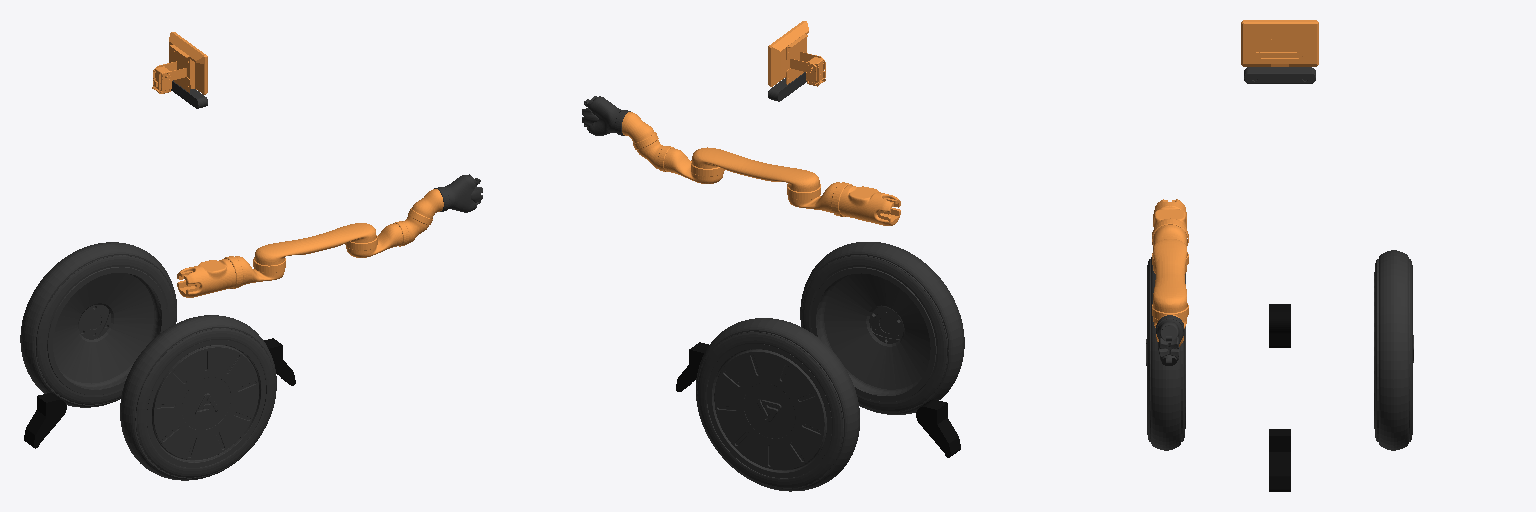
--- Facts derived from the render (not from the file) ---
Views: 3 orthographic renders of the robot side by side, from view 1: azimuth 30°, elevation 25°; view 2: azimuth 150°, elevation 25°; view 3: azimuth 270°, elevation 25°.
Model segway_robot with 39 links and 38 joints (4 revolute, 5 continuous, 29 fixed), rooted at base_link, posed all joints at 0 but 2 set to mid-range because 0 is outside their limits (m1n6s200_joint_2 = 3.14, m1n6s200_joint_3 = 3.14).
Visible links, largest first — view 1: right_wheel_link, left_wheel_link, m1n6s200_link_2, tilt_link, m1n6s200_link_base, rear_caster_pivot_link, m1n6s200_link_6, m1n6s200_link_3, m1n6s200_link_1, m1n6s200_link_5, front_caster_pivot_link; view 2: left_wheel_link, right_wheel_link, m1n6s200_link_2, tilt_link, m1n6s200_link_base, rear_caster_pivot_link, m1n6s200_link_6, m1n6s200_link_3, m1n6s200_link_1, m1n6s200_link_5, front_caster_pivot_link, m1n6s200_link_4; view 3: left_wheel_link, right_wheel_link, tilt_link, m1n6s200_link_2, front_caster_pivot_link, camera_link, m1n6s200_link_6, rear_caster_pivot_link, m1n6s200_link_base, m1n6s200_link_1.
Link boxes in pixels (x1,y1,x2,y2): right_wheel_link: (120,315,276,480); left_wheel_link: (20,242,176,407); m1n6s200_link_2: (253,223,375,272); tilt_link: (159,32,207,94); m1n6s200_link_base: (177,259,235,297); rear_caster_pivot_link: (24,393,66,448); m1n6s200_link_6: (434,174,482,212); m1n6s200_link_3: (345,223,402,257); m1n6s200_link_1: (224,256,284,288); m1n6s200_link_5: (408,189,443,224); front_caster_pivot_link: (264,338,295,385); left_wheel_link: (696,318,859,491); right_wheel_link: (800,242,964,414); m1n6s200_link_2: (692,147,820,199); tilt_link: (768,21,820,86); m1n6s200_link_base: (839,185,900,225); rear_caster_pivot_link: (916,400,960,457); m1n6s200_link_6: (582,96,630,135); m1n6s200_link_3: (664,148,724,183); m1n6s200_link_1: (788,182,852,216); m1n6s200_link_5: (622,112,658,149); front_caster_pivot_link: (676,342,708,391); m1n6s200_link_4: (637,140,673,171); left_wheel_link: (1374,250,1413,450); right_wheel_link: (1146,257,1185,450); tilt_link: (1241,20,1318,66); m1n6s200_link_2: (1152,239,1188,312); front_caster_pivot_link: (1269,429,1290,491); camera_link: (1244,67,1315,83); m1n6s200_link_6: (1156,315,1183,365); rear_caster_pivot_link: (1269,304,1290,347); m1n6s200_link_base: (1153,199,1186,228); m1n6s200_link_1: (1152,220,1188,273).
Bounding box of the posed robot: 1.31 × 0.6435 × 1.17 m (x, y, z).
20 mesh visuals loaded from 18 distinct referenced files (2 binary STL, 12 OBJ); not drawn: 6 (reference not matched to a file when rendering).

URDF robot description (segway_robot):
<?xml version="1.0" ?>
<!-- =================================================================================== -->
<!-- |    This document was autogenerated by xacro from rmp.urdf.xacro                 | -->
<!-- |    EDITING THIS FILE BY HAND IS NOT RECOMMENDED                                 | -->
<!-- =================================================================================== -->
<!--
Software License Agreement (BSD)

\file      segway.urdf.xacro
\authors   Patrick Hussey
\copyright Copyright (c) 2018, Stanley Innovation, Inc., All rights reserved.

Redistribution and use in source and binary forms, with or without modification, are permitted provided that
the following conditions are met:
 * Redistributions of source code must retain the above copyright notice, this list of conditions and the
   following disclaimer.
 * Redistributions in binary form must reproduce the above copyright notice, this list of conditions and the
   following disclaimer in the documentation and/or other materials provided with the distribution.
 * Neither the name of Stanley Innovation, Inc. nor the names of its contributors may be used to endorse or promote
   products derived from this software without specific prior written permission.

THIS SOFTWARE IS PROVIDED BY THE COPYRIGHT HOLDERS AND CONTRIBUTORS "AS IS" AND ANY EXPRESS OR IMPLIED WAR-
RANTIES, INCLUDING, BUT NOT LIMITED TO, THE IMPLIED WARRANTIES OF MERCHANTABILITY AND FITNESS FOR A PARTICULAR
PURPOSE ARE DISCLAIMED. IN NO EVENT SHALL THE COPYRIGHT HOLDER OR CONTRIBUTORS BE LIABLE FOR ANY DIRECT, IN-
DIRECT, INCIDENTAL, SPECIAL, EXEMPLARY, OR CONSEQUENTIAL DAMAGES (INCLUDING, BUT NOT LIMITED TO, PROCUREMENT
OF SUBSTITUTE GOODS OR SERVICES; LOSS OF USE, DATA, OR PROFITS; OR BUSINESS INTERRUPTION) HOWEVER CAUSED AND
ON ANY THEORY OF LIABILITY, WHETHER IN CONTRACT, STRICT LIABILITY, OR TORT (INCLUDING NEGLIGENCE OR OTHERWISE)
ARISING IN ANY WAY OUT OF THE USE OF THIS SOFTWARE, EVEN IF ADVISED OF THE POSSIBILITY OF SUCH DAMAGE.
-->
<robot name="segway_robot" xmlns:xacro="http://ros.org/wiki/xacro">
  <gazebo>
    <plugin filename="libgazebo_ros_control.so" name="gazebo_ros_control">
      <robotNamespace>/</robotNamespace>
    </plugin>
    <plugin filename="libgazebo_ros_p3d.so" name="gazebo_ros_p3d">
      <bodyName>base_link</bodyName>
      <topicName>ground_truth_odom</topicName>
      <alwaysOn>true</alwaysOn>
      <updateRate>100.0</updateRate>
    </plugin>
  </gazebo>
  <!-- Base link is the center of the robot's chassis between the motors projected on the ground -->
  <link name="base_link">
  <inertial>
      <mass value="0.001"/>
      <origin rpy="0 0 0" xyz="0 0 0"/>
      <inertia ixx="0.0001" ixy="0.0" ixz="0.0" iyy="0.0001" iyz="0.0" izz="0.0001"/>
    </inertial>
  </link>
  <joint name="base_chassis_joint" type="fixed">
    <origin rpy="0 0 0" xyz="0 0 0.15801795"/>
    <parent link="base_link"/>
    <child link="base_chassis_link"/>
  </joint>
  <link name="base_chassis_link">
    <inertial>
      <mass value="101.0333036"/>
      <origin xyz="0 0 0.202000"/>
      <inertia ixx="5.38268396036" ixy="0" ixz="0" iyy="5.38268396036" iyz="0" izz="5.38268396036"/>
    </inertial>
    <collision>
      <geometry>
        <mesh filename="meshes/segway_components/collision/fixed_chassis_collision.stl" scale="1.0 0.9 1.0"/>
      </geometry>
    </collision>
    <visual>
      <origin rpy="0 0 0" xyz="0 0 0"/>
      <geometry>
        <mesh filename="meshes/segway_components/visual/processed_fixed_chassis.obj"/>
      </geometry>
      <material name="black">
        <color rgba="0.258 0.258 0.258 1" />
      </material>
</visual>
  </link>

<joint name="jr2_fixed_body_joint" type="fixed">
    <parent link="base_chassis_link"/>
    <child link="jr2_fixed_body_link"/>
    <origin rpy="0 0 0" xyz="0 0 0"/>
  </joint>
  <link name="jr2_fixed_body_link">
    <visual>
      <origin rpy="0 0 0" xyz="0 0 0"/>
      <geometry>
        <mesh filename="meshes/segway_components/visual/processed_fixed_body_highres.obj" scale="1.0 1.0 1.0"/>
      </geometry>
      <material name="">
        <color rgba="1 1 1 1" />
      </material>
    </visual>
    <collision>
      <origin rpy="0 0 0" xyz="0 0 0"/>
      <geometry>
        <mesh filename="meshes/segway_components/visual/fixed_body_vhacd.obj" scale="1.0 0.9 1.0"/>
      </geometry>
    </collision>
    <inertial>
      <mass value="0.001"/>
      <origin rpy="0 0 0" xyz="0 0 0"/>
      <inertia ixx="0.0001" ixy="0.0" ixz="0.0" iyy="0.0001" iyz="0.0" izz="0.0001"/>
    </inertial>
    
  </link>

  <joint name="left_wheel" type="continuous">
    <parent link="base_chassis_link"/>
    <child link="left_wheel_link"/>
    <origin rpy="0 0 0" xyz="0 0.27105 0.08255015"/>
    <axis rpy="0 0 0" xyz="0 1 0"/>
  </joint>
  <gazebo reference="left_wheel">
    <implicitSpringDamper>1</implicitSpringDamper>
    <stopCfm>0.1</stopCfm>
    <stopErp>0.2</stopErp>
  </gazebo>
  <link name="left_wheel_link">
    <inertial>
      <mass value="20.0"/>
      <origin rpy="0 0 0" xyz="0 0 0"/>
      <inertia ixx="0.303625" ixy="0.000000" ixz="0.000000" iyx="0.000000" iyy="0.303625" iyz="0.000000" izx="0.000000" izy="0.000000" izz="0.578884"/>
    </inertial>
    <visual>
      <origin rpy="-1.570795 0 0" xyz="0 0 0"/>
      <geometry>
        <mesh filename="meshes/segway_components/visual/processed_i2_wheel.obj"/>
      </geometry>
      <material name="black">
        <color rgba="0.258 0.258 0.258 1" />
      </material>
</visual>
    <collision>
      <origin rpy="-1.570795 0 0" xyz="0 0 0"/>
      <geometry>
        <cylinder length="0.092249" radius="0.2406"/>
      </geometry>
    </collision>

    <contact>
      <lateral_friction value="1.0"/>
      <rolling_friction value="0.0"/>
    <stiffness value="300000"/>
<damping value="30000"/>
    </contact>


  </link>
  <gazebo reference="left_wheel_link">
    <mu1>10</mu1>
    <mu2>10</mu2>
    <kp>5000000.0</kp>
    <kd>10.0</kd>
    <minDepth>0.001</minDepth>
    <maxVel>0.1</maxVel>
    <fdir1>1 0 0</fdir1>
  </gazebo>
  <transmission name="left_wheel_trans" type="SimpleTransmission">
    <type>transmission_interface/SimpleTransmission</type>
    <actuator name="left_wheel_motor">
      <mechanicalReduction>1</mechanicalReduction>
    </actuator>
    <joint name="left_wheel">
      <hardwareInterface>hardware_interface/VelocityJointInterface</hardwareInterface>
    </joint>
  </transmission>
  <joint name="right_wheel" type="continuous">
    <parent link="base_chassis_link"/>
    <child link="right_wheel_link"/>
    <origin rpy="0 0 0" xyz="0 -0.27105 0.08255015"/>
    <axis rpy="0 0 0" xyz="0 1 0"/>
  </joint>
  <gazebo reference="right_wheel">
    <implicitSpringDamper>1</implicitSpringDamper>
    <stopCfm>0.1</stopCfm>
    <stopErp>0.2</stopErp>
  </gazebo>
  <link name="right_wheel_link">
    <inertial>
      <mass value="20.0"/>
      <origin rpy="0 0 0" xyz="0 0 0"/>
      <inertia ixx="0.303625" ixy="0.000000" ixz="0.000000" iyx="0.000000" iyy="0.303625" iyz="0.000000" izx="0.000000" izy="0.000000" izz="0.578884"/>
    </inertial>
    <visual>
      <origin rpy="1.570795 0 0" xyz="0 0 0"/>
      <geometry>
        <mesh filename="meshes/segway_components/visual/processed_i2_wheel.obj"/>
      </geometry>
          <material name="black">
        <color rgba="0.258 0.258 0.258 1" />
      </material>
</visual>
    <collision>
      <origin rpy="1.570795 0 0" xyz="0 0 0"/>
      <geometry>
        <cylinder length="0.092249" radius="0.2406"/>
      </geometry>
    </collision>

    <contact>
      <lateral_friction value="1.0"/>
      <rolling_friction value="0.0"/>
    <stiffness value="300000"/>
<damping value="30000"/>
    </contact>

  </link>
  <gazebo reference="right_wheel_link">
    <mu1>10</mu1>
    <mu2>10</mu2>
    <kp>5000000.0</kp>
    <kd>10.0</kd>
    <minDepth>0.001</minDepth>
    <maxVel>0.1</maxVel>
    <fdir1>1 0 0</fdir1>
  </gazebo>
  <transmission name="right_wheel_trans" type="SimpleTransmission">
    <type>transmission_interface/SimpleTransmission</type>
    <actuator name="right_wheel_motor">
      <mechanicalReduction>1</mechanicalReduction>
    </actuator>
    <joint name="right_wheel">
      <hardwareInterface>hardware_interface/VelocityJointInterface</hardwareInterface>
    </joint>
  </transmission>
  <link name="front_caster_pivot_link">
    <inertial>
      <mass value="0.0001"/>
      <origin rpy="0 0 0" xyz="0 0 0"/>
      <inertia ixx="0.0000001" ixy="0.0" ixz="0.0" iyy="0.0000001" iyz="0.0" izz="0.0000001"/>
    </inertial>
    
    <collision>
      <geometry>
        <mesh filename="meshes/segway_components/collision/frogleg_caster_pivot_collision.stl"/>
      </geometry>
    </collision>
    <visual>
      <geometry>
        <mesh filename="meshes/segway_components/collision/frogleg_caster_pivot_collision.stl"/>
      </geometry>
      <material name="dark">
        <color rgba="0.1 0.1 0.1 1"/>
      </material>
    </visual>
  </link>
  <joint name="front_caster_pivot_joint" type="fixed">
    <origin rpy="0 0 3.14159" xyz="0.385841 0 0.051100"/>
    <parent link="base_chassis_link"/>
    <child link="front_caster_pivot_link"/>
  </joint>
  <link name="front_caster_wheel_link">
    <inertial>
      <mass value="1"/>
      <origin rpy="0 0 0" xyz="0 0 0"/>
      <inertia ixx="0.002794" ixy="0.0" ixz="0.0" iyy="0.002794" iyz="0.0" izz="0.002794"/>
    </inertial>
    <collision>
      <geometry>
        <sphere radius="0.083571637"/>
      </geometry>
    </collision>

    <visual>
      <geometry>
        <sphere radius="0.00083571637"/>
      </geometry>
    </visual>

    <contact>
      <lateral_friction value="0.0"/>
      <rolling_friction value="0.0"/>
     <stiffness value="500000"/>
<damping value="30000"/>
    </contact>

  </link>
  <joint name="front_caster_wheel_joint" type="fixed">
    <origin rpy="-1.570795 0 0" xyz="-0.055330 0 -0.125551"/>
    <parent link="front_caster_pivot_link"/>
    <child link="front_caster_wheel_link"/>
  </joint>
  <gazebo reference="front_caster_wheel_link">
    <mu1>0.0</mu1>
    <mu2>0.0</mu2>
    <kp>10000000.0</kp>
    <kd>100.0</kd>
    <minDepth>0.01</minDepth>
    <maxVel>10.0</maxVel>
  </gazebo>
  <link name="rear_caster_pivot_link">
    <inertial>
      <mass value="0.0001"/>
      <origin rpy="0 0 0" xyz="0 0 0"/>
      <inertia ixx="0.0000001" ixy="0.0" ixz="0.0" iyy="0.0000001" iyz="0.0" izz="0.0000001"/>
    </inertial>
    <collision>
      <geometry>
        <mesh filename="meshes/segway_components/collision/frogleg_caster_pivot_collision.stl"/>
      </geometry>
    </collision>

   <visual>
      <geometry>
        <mesh filename="meshes/segway_components/collision/frogleg_caster_pivot_collision.stl"/>
      </geometry>
       <material name="dark">
        <color rgba="0.1 0.1 0.1 1"/>
      </material>
    </visual>

  </link>
  <joint name="rear_caster_pivot_joint" type="fixed">
    <origin rpy="0 0 0" xyz="-0.314721 0 0.051100"/>
    <parent link="base_chassis_link"/>
    <child link="rear_caster_pivot_link"/>
  </joint>
  <link name="rear_caster_wheel_link">
    <inertial>
      <mass value="1"/>
      <origin rpy="0 0 0" xyz="0 0 0"/>
      <inertia ixx="0.002794" ixy="0.0" ixz="0.0" iyy="0.002794" iyz="0.0" izz="0.002794"/>
    </inertial>
    
    <collision>
      <geometry>
        <sphere radius="0.083571637"/>
      </geometry>
    </collision>
  
    <visual>
      <geometry>
        <sphere radius="0.00083571637"/>
      </geometry>
    </visual>


    <contact>
      <lateral_friction value="0.0"/>
      <rolling_friction value="0.0"/>
 <stiffness value="300000"/>
<damping value="30000"/>
    </contact>

  </link>
  <joint name="rear_caster_wheel_joint" type="fixed">
    <origin rpy="-1.570795 0 0" xyz="-0.055330 0 -0.125551"/>
    <parent link="rear_caster_pivot_link"/>
    <child link="rear_caster_wheel_link"/>
  </joint>
  <gazebo reference="rear_caster_wheel_link">
    <mu1>0.0</mu1>
    <mu2>0.0</mu2>
    <kp>10000000.0</kp>
    <kd>100.0</kd>
    <minDepth>0.01</minDepth>
    <maxVel>10.0</maxVel>
  </gazebo>
  <!-- CH Robotics UM7 Link-->
  <link name="ext_imu_frame">
  <inertial>
      <mass value="0.001"/>
      <origin rpy="0 0 0" xyz="0 0 0"/>
      <inertia ixx="0.0001" ixy="0.0" ixz="0.0" iyy="0.0001" iyz="0.0" izz="0.0001"/>
    </inertial>
    </link>
  <joint name="ext_imu_joint" type="fixed">
    <origin rpy="3.14159 0 1.570795" xyz="0.053540 0 0.086597"/>
    <parent link="base_chassis_link"/>
    <child link="ext_imu_frame"/>
  </joint>
  <gazebo>
    <plugin filename="libhector_gazebo_ros_imu.so" name="imu_controller">
      <alwaysOn>1</alwaysOn>
      <updateRate>50.0</updateRate>
      <bodyName>ext_imu_frame</bodyName>
      <topicName>/segway/feedback/ext_imu</topicName>
      <accelDrift>0.005 0.005 0.005</accelDrift>
      <accelGaussianNoise>0.005 0.005 0.005</accelGaussianNoise>
      <rateDrift>0.005 0.005 0.005 </rateDrift>
      <rateGaussianNoise>0.005 0.005 0.005 </rateGaussianNoise>
      <headingDrift>0.005</headingDrift>
      <headingGaussianNoise>0.005</headingGaussianNoise>
    </plugin>
  </gazebo>
  <link name="rear_laser_link">
  <inertial>
      <mass value="0.001"/>
      <origin rpy="0 0 0" xyz="0 0 0"/>
      <inertia ixx="0.0001" ixy="0.0" ixz="0.0" iyy="0.0001" iyz="0.0" izz="0.0001"/>
    </inertial>
  </link>
  <joint name="rear_laser_joint" type="fixed">
    <origin rpy="0 0 3.14159" xyz="-0.336957 0 0.137117"/>
    <parent link="base_chassis_link"/>
    <child link="rear_laser_link"/>
  </joint>
  <gazebo reference="rear_laser_link">
    <sensor name="rear_tim_laser" type="gpu_ray">
      <pose>0 0 0 0 0 0</pose>
      <visualize>false</visualize>
      <update_rate>15</update_rate>
      <ray>
        <scan>
          <horizontal>
            <samples>660</samples>
            <resolution>1</resolution>
            <min_angle>-1.9</min_angle>
            <max_angle>1.9</max_angle>
          </horizontal>
        </scan>
        <range>
          <min>0.10</min>
          <max>20.0</max>
          <resolution>0.01</resolution>
        </range>
        <noise>
          <type>gaussian</type>
          <mean>0.0</mean>
          <stddev>0.0</stddev>
        </noise>
      </ray>
      <plugin filename="libgazebo_ros_gpu_laser.so" name="rear_tim_node">
        <topicName>/segway/rear_scan</topicName>
        <frameName>rear_laser_link</frameName>
      </plugin>
    </sensor>
  </gazebo>
  <link name="front_laser_link">
  <inertial>
      <mass value="0.001"/>
      <origin rpy="0 0 0" xyz="0 0 0"/>
      <inertia ixx="0.0001" ixy="0.0" ixz="0.0" iyy="0.0001" iyz="0.0" izz="0.0001"/>
    </inertial>
  </link>
  <joint name="front_laser_joint" type="fixed">
    <origin rpy="0 0 0" xyz="0.336957 0 0.137117"/>
    <parent link="base_chassis_link"/>
    <child link="front_laser_link"/>
  </joint>
  <gazebo reference="front_laser_link">
    <sensor name="front_tim_laser" type="gpu_ray">
      <pose>0 0 0 0 0 0</pose>
      <visualize>false</visualize>
      <update_rate>15</update_rate>
      <ray>
        <scan>
          <horizontal>
            <samples>660</samples>
            <resolution>1</resolution>
            <min_angle>-1.9</min_angle>
            <max_angle>1.9</max_angle>
          </horizontal>
        </scan>
        <range>
          <min>0.10</min>
          <max>20.0</max>
          <resolution>0.01</resolution>
        </range>
        <noise>
          <type>gaussian</type>
          <mean>0.0</mean>
          <stddev>0.0</stddev>
        </noise>
      </ray>
      <plugin filename="libgazebo_ros_gpu_laser.so" name="front_tim_node">
        <topicName>/segway/front_scan</topicName>
        <frameName>front_laser_link</frameName>
      </plugin>
    </sensor>
  </gazebo>
  <link name="lower_velodyne_frame">
  <inertial>
      <mass value="0.001"/>
      <origin rpy="0 0 0" xyz="0 0 0"/>
      <inertia ixx="0.0001" ixy="0.0" ixz="0.0" iyy="0.0001" iyz="0.0" izz="0.0001"/>
    </inertial>
  </link>
  <joint name="lower_velodyne_joint" type="fixed">
    <origin rpy="0 0 0" xyz="-0.019685 0 0.606982"/>
    <parent link="base_chassis_link"/>
    <child link="lower_velodyne_frame"/>
  </joint>
  <!--gazebo reference="lower_velodyne_frame">>
            <sensor type="ray" name="lower_velodyne">
                <pose>0 0 0 0 0 0</pose>
                <visualize>false</visualize>
                <update_rate>10</update_rate>
                <ray>
                    <scan>
                        <horizontal>
                            <samples>1090</samples>
                            <resolution>1</resolution>
                            <min_angle>${-M_PI}</min_angle>
                            <max_angle>${M_PI}</max_angle>
                        </horizontal>
                        <vertical>
                            <samples>16</samples>
                            <resolution>1</resolution>
                            <min_angle>-${15.0*M_PI/180.0}</min_angle>
                            <max_angle> ${15.0*M_PI/180.0}</max_angle>
                        </vertical>
                    </scan>
                    <range>
                        <min>0.9</min>
                        <max>20.0</max>
                        <resolution>0.001</resolution>
                    </range>
                    <noise>
                        <type>gaussian</type>
                        <mean>0.0</mean>
                        <stddev>0.0</stddev>
                    </noise>
                </ray>
                <plugin name="lower_velodyne_plugin" filename="libgazebo_ros_block_laser.so">
                    <updateRate>10.0</updateRate>
                    <topicName>/lower_velodyne_pointcloud</topicName>
                    <frameName>lower_velodyne_frame</frameName>
                </plugin>

            </sensor>
        </gazebo-->
  <link name="occam">
  <inertial>
      <mass value="0.001"/>
      <origin rpy="0 0 0" xyz="0 0 0"/>
      <inertia ixx="0.0001" ixy="0.0" ixz="0.0" iyy="0.0001" iyz="0.0" izz="0.0001"/>
    </inertial>
    </link>
  <joint name="ocamm_omni_joint" type="fixed">
    <origin rpy="-1.570795 0 -1.570795" xyz="-0.019685 0 0.742092"/>
    <parent link="base_chassis_link"/>
    <child link="occam"/>
  </joint>
  <link name="occam_omni_optical_link">
  <inertial>
      <mass value="0.001"/>
      <origin rpy="0 0 0" xyz="0 0 0"/>
      <inertia ixx="0.0001" ixy="0.0" ixz="0.0" iyy="0.0001" iyz="0.0" izz="0.0001"/>
    </inertial>
  </link>
  <joint name="ocamm_omni_optical_joint" type="fixed">
    <origin rpy="0 1.570795 -1.570795" xyz="0 0 0"/>
    <parent link="occam"/>
    <child link="occam_omni_optical_link"/>
  </joint>
  <link name="upper_velodyne_frame">
  <inertial>
      <mass value="0.001"/>
      <origin rpy="0 0 0" xyz="0 0 0"/>
      <inertia ixx="0.0001" ixy="0.0" ixz="0.0" iyy="0.0001" iyz="0.0" izz="0.0001"/>
    </inertial>
  </link>
  <joint name="upper_velodyne_joint" type="fixed">
    <origin rpy="0 0 0.085" xyz="-0.019685 0 1.077382"/>
    <parent link="base_chassis_link"/>
    <child link="upper_velodyne_frame"/>
  </joint>

  <link name="scan_link">
  <inertial>
      <mass value="0.001"/>
      <origin rpy="0 0 0" xyz="0 0 0"/>
      <inertia ixx="0.0001" ixy="0.0" ixz="0.0" iyy="0.0001" iyz="0.0" izz="0.0001"/>
    </inertial>
  </link>
  <joint name="scan_link_joint" type="fixed">
    <origin rpy="0 0 0.085" xyz="-0.019685 0 1.077382"/>
    <parent link="base_chassis_link"/>
    <child link="scan_link"/>
  </joint>

  <!--gazebo reference="upper_velodyne_frame">
            <sensor name="upper_velodyne" type="ray">
                <pose>0 0 0 0 0 0</pose>
                <visualize>false</visualize>
                <update_rate>10</update_rate>
                <ray>
                    <scan>
                        <horizontal>
                            <samples>1090</samples>
                            <resolution>1</resolution>
                            <min_angle>${-M_PI}</min_angle>
                            <max_angle>${M_PI}</max_angle>
                        </horizontal>
                        <vertical>
                            <samples>16</samples>
                            <resolution>1</resolution>
                            <min_angle>-${15.0*M_PI/180.0}</min_angle>
                            <max_angle> ${15.0*M_PI/180.0}</max_angle>
                        </vertical>
                    </scan>
                    <range>
                        <min>0.9</min>
                        <max>20.0</max>
                        <resolution>0.001</resolution>
                    </range>
                    <noise>
                        <type>gaussian</type>
                        <mean>0.0</mean>
                        <stddev>0.0</stddev>
                    </noise>
                </ray>
                <plugin name="upper_velodyne_plugin" filename="libgazebo_ros_block_laser.so">
                    <updateRate>10.0</updateRate>
                    <topicName>/upper_velodyne_pointcloud</topicName>
                    <frameName>upper_velodyne_frame</frameName>
                </plugin>

            </sensor>
        </gazebo-->
  <link name="gps_frame">
  <inertial>
      <mass value="0.001"/>
      <origin rpy="0 0 0" xyz="0 0 0"/>
      <inertia ixx="0.0001" ixy="0.0" ixz="0.0" iyy="0.0001" iyz="0.0" izz="0.0001"/>
    </inertial>
  </link>
  <joint name="gps_joint" type="fixed">
    <origin rpy="0 0 -1.570795" xyz="-0.019685 0 1.116244"/>
    <parent link="base_chassis_link"/>
    <child link="gps_frame"/>
  </joint>
  <gazebo>
    <plugin filename="libhector_gazebo_ros_gps.so" name="gps_controller">
      <alwaysOn>1</alwaysOn>
      <updateRate>40</updateRate>
      <bodyName>gps_frame</bodyName>
      <topicName>/segway/feedback/gps/fix_2d</topicName>
      <velocityTopicName>/segway/feedback/gps/vel</velocityTopicName>
      <referenceLatitude>40.712784</referenceLatitude>
      <referenceLongitude>-74.005941</referenceLongitude>
      <referenceHeading>0</referenceHeading>
      <referenceAltitude>0</referenceAltitude>
      <drift>0.0001 0.0001 0.0001</drift>
    </plugin>
  </gazebo>
  <joint name="pan_joint" type="fixed">
    <origin rpy="0 0 0" xyz="0.043815 0 0.886186"/>
    <axis xyz="0 0 1"/>
    <parent link="base_chassis_link"/>
    <child link="pan_link"/>
    <limit effort="60.0" lower="-1.570796326794897" upper="1.570796326794897" velocity="6.597"/>
  </joint>
  <link name="pan_link">
    <inertial>
      <mass value="0.142314"/>
      <origin xyz="-0.000098 -0.000421 0.038035"/>
      <inertia ixx="0.000065" ixy="0.000001" ixz="0.000000" iyx="0.000001" iyy="0.000055" iyz="-0.000002" izx="0.00000" izy="-0.000002" izz="0.000034"/>
    </inertial>
    <visual>
      <origin rpy="0 0 0" xyz="0 0 0"/>
      <geometry>
        <mesh filename="meshes/segway_components/visual/processed_tilt_servo.obj"/>
      </geometry>
      <material name="orange">
        <color rgba="0.976 0.635 0.325 1"/>
      </material>
    </visual>
    <collision>
      <origin rpy="0 0 0" xyz="0 0 0"/>
      <geometry>
        <mesh filename="meshes/segway_components/collision/tilt_servo_collision.stl"/>
      </geometry>
    </collision>
  </link>
  <transmission name="pan_trans" type="SimpleTransmission">
    <type>transmission_interface/SimpleTransmission</type>
    <joint name="pan_joint">
      <hardwareInterface>hardware_interface/EffortJointInterface</hardwareInterface>
    </joint>
    <actuator name="pan_actuator">
      <mechanicalReduction>1</mechanicalReduction>
    </actuator>
  </transmission>
  <link name="tilt_link">
    <inertial>
      <mass value="0.531983"/>
      <origin xyz="0.077660 -0.013492 0.006611"/>
      <inertia ixx="0.001766" ixy="0.000001" ixz="-0.000024" iyx="0.000001" iyy="0.001253" iyz="0.000022" izx="-0.000024" izy="0.000022" izz="0.000629"/>
    </inertial>
    <visual>
      <origin rpy="0 0 0" xyz="0 0 0"/>
      <geometry>
        <mesh filename="meshes/segway_components/visual/processed_touch_screen.obj"/>
      </geometry>
      <material name="orange">
        <color rgba="0.976 0.635 0.325 1"/>
      </material>
</visual>
    <collision>
      <origin rpy="0 0 0" xyz="0 0 0"/>
      <geometry>
        <mesh filename="meshes/segway_components/collision/touch_screen_collision.stl"/>
      </geometry>
    </collision>
  </link>
  <joint name="tilt_joint" type="fixed">
    <origin rpy="-1.570795 0 0" xyz="0 0 0.055000"/>
    <axis xyz="0 0 1"/>
    <parent link="pan_link"/>
    <child link="tilt_link"/>
    <limit effort="60.0" lower="-1.570796326794897" upper="1.570796326794897" velocity="6.597"/>
  </joint>
  <transmission name="tilt_trans" type="SimpleTransmission">
    <type>transmission_interface/SimpleTransmission</type>
    <joint name="tilt_joint">
      <hardwareInterface>hardware_interface/EffortJointInterface</hardwareInterface>
    </joint>
    <actuator name="tilt_actuator">
      <mechanicalReduction>1</mechanicalReduction>
    </actuator>
  </transmission>
  <joint name="camera_joint" type="fixed">
    <origin rpy="1.57 0 0" xyz="0.08 0.075 0.0"/>
    <parent link="tilt_link"/>
    <child link="camera_link"/>
  </joint>
  <link name="camera_link">
    <inertial>
      <mass value="0.1"/>
      <origin xyz="0 0 0"/>
      <inertia ixx="0.001767" ixy="0.0" ixz="0.0" iyx="0.0" iyy="0.001789" iyz="0.0" izx="0.0" izy="0.0" izz="0.002159"/>
    </inertial>
    <visual>
      <geometry>
        <mesh filename="meshes/additional_sensors/visual/ZED.stl"/>
      </geometry>
      <material name="black">
        <color rgba="0.258 0.258 0.258 1"/>
      </material>
</visual>
    <collision>
      <geometry>
        <box size="0.033 0.175 0.030"/>
      </geometry>
    </collision>
  </link>


  <!-- ZED left camera frame -->
  <link name="camera_rgb_frame">
  <inertial>
      <mass value="0.001"/>
      <origin rpy="0 0 0" xyz="0 0 0"/>
      <inertia ixx="0.0001" ixy="0.0" ixz="0.0" iyy="0.0001" iyz="0.0" izz="0.0001"/>
    </inertial>
  </link>
  <joint name="camera_rgb_joint" type="fixed">
    <origin rpy="0 0 0" xyz="0 0.06 0"/>
    <parent link="camera_link"/>
    <child link="camera_rgb_frame"/>
  </joint>
  <link name="camera_rgb_optical_frame">
  <inertial>
      <mass value="0.001"/>
      <origin rpy="0 0 0" xyz="0 0 0"/>
      <inertia ixx="0.0001" ixy="0.0" ixz="0.0" iyy="0.0001" iyz="0.0" izz="0.0001"/>
    </inertial>
  </link>
  <joint name="camera_rgb_optical_joint" type="fixed">
    <origin rpy="-1.57075 0 -1.57075" xyz="0 0 0"/>
    <parent link="camera_rgb_frame"/>
    <child link="camera_rgb_optical_frame"/>
  </joint>
  <!-- Same as ZED left camera frame -->
  <link name="camera_depth_frame">
  <inertial>
      <mass value="0.001"/>
      <origin rpy="0 0 0" xyz="0 0 0"/>
      <inertia ixx="0.0001" ixy="0.0" ixz="0.0" iyy="0.0001" iyz="0.0" izz="0.0001"/>
    </inertial>
    </link>
  <joint name="camera_depth_joint" type="fixed">
    <origin rpy="0 0 0" xyz="0 0.06 0"/>
    <parent link="camera_link"/>
    <child link="camera_depth_frame"/>
  </joint>
  <link name="camera_depth_optical_frame">
  <inertial>
      <mass value="0.001"/>
      <origin rpy="0 0 0" xyz="0 0 0"/>
      <inertia ixx="0.0001" ixy="0.0" ixz="0.0" iyy="0.0001" iyz="0.0" izz="0.0001"/>
    </inertial>
    </link>
  <joint name="camera_depth_optical_joint" type="fixed">
    <origin rpy="-1.57075 0 -1.57075" xyz="0 0 0"/>
    <parent link="camera_depth_frame"/>
    <child link="camera_depth_optical_frame"/>
  </joint>
  <gazebo reference="camera_link">
    <material>Gazebo/Grey</material>
    <sensor name="camera" type="depth">
      <always_on>true</always_on>
      <update_rate>30</update_rate>
      <camera>
        <horizontal_fov>1.57</horizontal_fov>
        <image>
          <format>R8G8B8</format>
          <width>672</width>
          <height>376</height>
        </image>
        <clip>
          <near>0.05</near>
          <far>10.0</far>
        </clip>
      </camera>
      <plugin filename="libgazebo_ros_openni_kinect.so" name="kinect_camera_controller">
        <cameraName>camera</cameraName>
        <alwaysOn>true</alwaysOn>
        <updateRate>20</updateRate>
        <imageTopicName>rgb/image_rect_color</imageTopicName>
        <depthImageTopicName>depth_registered/image_raw</depthImageTopicName>
        <pointCloudTopicName>depth_registered/points</pointCloudTopicName>
        <cameraInfoTopicName>rgb/camera_info</cameraInfoTopicName>
        <depthImageCameraInfoTopicName>depth_registered/camera_info</depthImageCameraInfoTopicName>
        <pointCloudCutoff>0.4</pointCloudCutoff>
        <pointCloudCutoffMax>10.0</pointCloudCutoffMax>
        <frameName>camera_rgb_optical_frame</frameName>
        <baseline>0.1</baseline>
        <distortion_k1>0.0</distortion_k1>
        <distortion_k2>0.0</distortion_k2>
        <distortion_k3>0.0</distortion_k3>
        <distortion_t1>0.0</distortion_t1>
        <distortion_t2>0.0</distortion_t2>
        <CxPrime>0</CxPrime>
        <Cx>0</Cx>
        <Cy>0</Cy>
        <focalLength>0</focalLength>
        <hackBaseline>0</hackBaseline>
      </plugin>
    </sensor>
  </gazebo>
  <!-- Head mounted Intel Realsense D435 RGB-D camera-->
  <!--
        <xacro:intel_realsense_d435 parent="tilt_link" rgbd_prefix="camera">
           <origin xyz="0.05 0 0.05" rpy="0 0 0"/>
           </xacro:intel_realsense_d435>
      -->



   <link name="eyes">
      <inertial>
      <mass value="0.001"/>
      <origin xyz="0 0 0"/>
      <inertia ixx="0.0001" ixy="0.0" ixz="0.0" iyy="0.0001" iyz="0.0" izz="0.0001"/>
    </inertial>
  </link>
  <joint name="eye_joint" type="fixed">
   <origin rpy="0 0 0" xyz="0.1 0 0"/>
    <parent link="camera_link"/>
    <child link="eyes"/>
  </joint>


  <link name="right_arm_attach_link">
   <inertial>
      <mass value="0.001"/>
      <origin xyz="0 0 0"/>
      <inertia ixx="0.0001" ixy="0.0" ixz="0.0" iyy="0.0001" iyz="0.0" izz="0.0001"/>
    </inertial>
  </link>
  <joint name="right_arm_attach_joint" type="fixed">
    <origin rpy="1.570795 0 1.570795" xyz="-0.044460 -0.263000 0.431008"/>
    <parent link="base_chassis_link"/>
    <child link="right_arm_attach_link"/>
  </joint>

  <joint name="m1n6s200_joint_base" type="fixed">
    <parent link="right_arm_attach_link"/>
    <child link="m1n6s200_link_base"/>
    <axis xyz="0 0 0"/>
    <limit effort="2000" lower="0" upper="0" velocity="1"/>
    <origin rpy="0 0 0" xyz="0 0 0"/>
    <dynamics damping="0.0" friction="0.0"/>
  </joint>


  <link name="m1n6s200_link_base">
    <visual>
      <geometry>
        <mesh filename="meshes/kinova/processed_base.obj"/>
      </geometry>
      <material name="orange">
        <color rgba="0.976 0.635 0.325 1"/>
      </material>
    </visual>
    <collision>
      <geometry>
        <mesh filename="meshes/kinova/base.obj"/>
      </geometry>
    </collision>
    <inertial>
      <mass value="0.46784"/>
      <origin rpy="0 0 0" xyz="0 0 0.1255"/>
      <inertia ixx="0.000951270861568" ixy="0" ixz="0" iyy="0.000951270861568" iyz="0" izz="0.000374272"/>
    </inertial>
  </link>

  <link name="m1n6s200_link_1">
    <visual>
      <geometry>
        <mesh filename="meshes/kinova/processed_shoulder.obj"/>
      </geometry>
      <material name="orange">
        <color rgba="0.976 0.635 0.325 1"/>
      </material>
    </visual>
    <visual>
      <geometry>
        <mesh filename="meshes/kinova/ring_big.obj"/>
      </geometry>
      <material name="orange">
        <color rgba="0.976 0.635 0.325 1"/>
      </material>
    </visual>
    <collision>
      <geometry>
        <mesh filename="meshes/kinova/shoulder.obj"/>
      </geometry>
    </collision>
    <inertial>
      <mass value="0.7477"/>
      <origin xyz="0 -0.002 -0.0605"/>
      <inertia ixx="0.00152031725204" ixy="0" ixz="0" iyy="0.00152031725204" iyz="0" izz="0.00059816"/>
    </inertial>
  </link>
  <joint name="m1n6s200_joint_1" type="continuous">
    <parent link="m1n6s200_link_base"/>
    <child link="m1n6s200_link_1"/>
    <axis xyz="0 0 1"/>
    <limit effort="2000" lower="-6.28318530718" upper="6.28318530718" velocity="1"/>
    <origin rpy="0 3.14159265359 0" xyz="0 0 0.15675"/>
    <dynamics damping="0.0" friction="0.0"/>
  </joint>
  <transmission name="m1n6s200_joint_1_trans">
    <type>transmission_interface/SimpleTransmission</type>
    <joint name="m1n6s200_joint_1">
      <hardwareInterface>EffortJointInterface</hardwareInterface>
    </joint>
    <actuator name="m1n6s200_joint_1_actuator">
      <hardwareInterface>EffortJointInterface</hardwareInterface>
      <mechanicalReduction>160</mechanicalReduction>
    </actuator>
  </transmission>
  <link name="m1n6s200_link_2">
    <visual>
      <geometry>
        <mesh filename="meshes/kinova/processed_arm_mico.obj"/>
      </geometry>
      <material name="orange">
        <color rgba="0.976 0.635 0.325 1"/>
      </material>
    </visual>
    <visual>
      <geometry>
        <mesh filename="meshes/kinova/processed_ring_big.obj"/>
      </geometry>
      <material name="orange">
        <color rgba="0.976 0.635 0.325 1"/>
      </material>
    </visual>
    <collision>
      <geometry>
        <mesh filename="meshes/kinova/arm_mico.obj"/>
      </geometry>
    </collision>
    <inertial>
      <mass value="0.85968"/>
      <origin xyz="0 -0.145  -0.0076"/>
      <inertia ixx="0.00467090931629" ixy="0" ixz="0" iyy="0.000386856" iyz="0" izz="0.00467090931629"/>
    </inertial>
  </link>
  <joint name="m1n6s200_joint_2" type="revolute">
    <parent link="m1n6s200_link_1"/>
    <child link="m1n6s200_link_2"/>
    <axis xyz="0 0 1"/>
    <limit effort="2000" lower="0.872664625997" upper="5.41052068118" velocity="1"/>
    <origin rpy="-1.57079632679 0 3.14159265359" xyz="0 0.0016 -0.11875"/>
    <dynamics damping="0.0" friction="0.0"/>
  </joint>
  <transmission name="m1n6s200_joint_2_trans">
    <type>transmission_interface/SimpleTransmission</type>
    <joint name="m1n6s200_joint_2">
      <hardwareInterface>EffortJointInterface</hardwareInterface>
    </joint>
    <actuator name="m1n6s200_joint_2_actuator">
      <hardwareInterface>EffortJointInterface</hardwareInterface>
      <mechanicalReduction>160</mechanicalReduction>
    </actuator>
  </transmission>
  <link name="m1n6s200_link_3">
    <visual>
      <geometry>
        <mesh filename="meshes/kinova/processed_forearm_mico.obj"/>
      </geometry>
      <material name="orange">
        <color rgba="0.976 0.635 0.325 1"/>
      </material>
    </visual>
    <visual>
      <geometry>
        <mesh filename="meshes/kinova/processed_ring_big.obj"/>
      </geometry>
      <material name="orange">
        <color rgba="0.976 0.635 0.325 1"/>
      </material>
    </visual>
    <collision>
      <geometry>
        <mesh filename="meshes/kinova/forearm_mico.obj"/>
      </geometry>
    </collision>
    <inertial>
      <mass value="0.606"/>
      <origin xyz="0 0.0463 -0.0065"/>
      <inertia ixx="0.0003837984648" ixy="0" ixz="0" iyy="0.0001212" iyz="0" izz="0.0003837984648"/>
    </inertial>
  </link>
  <joint name="m1n6s200_joint_3" type="revolute">
    <parent link="m1n6s200_link_2"/>
    <child link="m1n6s200_link_3"/>
    <axis xyz="0 0 1"/>
    <limit effort="2000" lower="0.610865238198" upper="5.67232006898" velocity="1"/>
    <origin rpy="0 3.14159265359 0" xyz="0 -0.290 0"/>
    <dynamics damping="0.0" friction="0.0"/>
  </joint>
  <transmission name="m1n6s200_joint_3_trans">
    <type>transmission_interface/SimpleTransmission</type>
    <joint name="m1n6s200_joint_3">
      <hardwareInterface>EffortJointInterface</hardwareInterface>
    </joint>
    <actuator name="m1n6s200_joint_3_actuator">
      <hardwareInterface>EffortJointInterface</hardwareInterface>
      <mechanicalReduction>160</mechanicalReduction>
    </actuator>
  </transmission>
  <link name="m1n6s200_link_4">
    <visual>
      <geometry>
        <mesh filename="meshes/kinova/processed_wrist.obj"/>
      </geometry>
      <material name="orange">
        <color rgba="0.976 0.635 0.325 1"/>
      </material>
    </visual>
    <visual>
      <geometry>
        <mesh filename="meshes/kinova/processed_ring_small.obj"/>
      </geometry>
      <material name="orange">
        <color rgba="0.976 0.635 0.325 1"/>
      </material>
    </visual>
    <collision>
      <geometry>
        <mesh filename="meshes/kinova/wrist.obj"/>
      </geometry>
    </collision>
    <inertial>
      <mass value="0.426367"/>
      <origin xyz="0 -0.037 -0.0642"/>
      <inertia ixx="7.73496906e-05" ixy="0" ixz="0" iyy="7.73496906e-05" iyz="0" izz="0.0001428"/>
    </inertial>
  </link>
  <joint name="m1n6s200_joint_4" type="continuous">
    <parent link="m1n6s200_link_3"/>
    <child link="m1n6s200_link_4"/>
    <axis xyz="0 0 1"/>
    <limit effort="2000" lower="-6.28318530718" upper="6.28318530718" velocity="1"/>
    <origin rpy="-1.57079632679 0 3.14159265359" xyz="0 0.1231 -0.0086"/>
    <dynamics damping="0.0" friction="0.0"/>
  </joint>
  <transmission name="m1n6s200_joint_4_trans">
    <type>transmission_interface/SimpleTransmission</type>
    <joint name="m1n6s200_joint_4">
      <hardwareInterface>EffortJointInterface</hardwareInterface>
    </joint>
    <actuator name="m1n6s200_joint_4_actuator">
      <hardwareInterface>EffortJointInterface</hardwareInterface>
      <mechanicalReduction>160</mechanicalReduction>
    </actuator>
  </transmission>
  <link name="m1n6s200_link_5">
    <visual>
      <geometry>
        <mesh filename="meshes/kinova/processed_wrist.obj"/>
      </geometry>
      <material name="orange">
        <color rgba="0.976 0.635 0.325 1"/>
      </material>
    </visual>
    <visual>
      <geometry>
        <mesh filename="meshes/kinova/processed_ring_small.obj"/>
      </geometry>
      <material name="orange">
        <color rgba="0.976 0.635 0.325 1"/>
      </material>
    </visual>
    <collision>
      <geometry>
        <mesh filename="meshes/kinova/wrist.obj"/>
      </geometry>
    </collision>
    <inertial>
      <mass value="0.426367"/>
      <origin xyz="0 -0.037 -0.0642"/>
      <inertia ixx="7.73496906e-05" ixy="0" ixz="0" iyy="7.73496906e-05" iyz="0" izz="0.0001428"/>
    </inertial>
  </link>
  <joint name="m1n6s200_joint_5" type="continuous">
    <parent link="m1n6s200_link_4"/>
    <child link="m1n6s200_link_5"/>
    <axis xyz="0 0 1"/>
    <limit effort="2000" lower="-6.28318530718" upper="6.28318530718" velocity="1"/>
    <origin rpy="1.0471975512 0 3.14159265359" xyz="0 -0.03703 -0.06414"/>
    <dynamics damping="0.0" friction="0.0"/>
  </joint>
  <transmission name="m1n6s200_joint_5_trans">
    <type>transmission_interface/SimpleTransmission</type>
    <joint name="m1n6s200_joint_5">
      <hardwareInterface>EffortJointInterface</hardwareInterface>
    </joint>
    <actuator name="m1n6s200_joint_5_actuator">
      <hardwareInterface>EffortJointInterface</hardwareInterface>
      <mechanicalReduction>160</mechanicalReduction>
    </actuator>
  </transmission>



  <link name="m1n6s200_link_6">
    <visual>
      <geometry>
        <mesh filename="meshes/kinova/processed_hand_2finger.obj"/>
      </geometry>
      <material name="black">
        <color rgba="0.258 0.258 0.258 1"/>
      </material>
    </visual>
    <visual>
      <geometry>
        <mesh filename="meshes/kinova/processed_ring_small.obj"/>
      </geometry>
      <material name="black">
        <color rgba="0.258 0.258 0.258 1"/>
      </material>
    </visual>
    <collision>
      <geometry>
        <mesh filename="meshes/kinova/hand_2finger.obj"/>
      </geometry>
    </collision>
    <inertial>
      <mass value="0.78"/>
      <origin xyz="0 0 -0.06"/>
      <inertia ixx="0.000370498518" ixy="0" ixz="0" iyy="0.000370498518" iyz="0" izz="0.000624"/>
    </inertial>


  </link>

  <joint name="m1n6s200_joint_6" type="fixed">
    <parent link="m1n6s200_link_5"/>
    <child link="m1n6s200_link_6"/>
    <origin rpy="1.0471975512 0 3.14159265359" xyz="0 -0.03703 -0.06414"/>
  </joint>
  <transmission name="m1n6s200_joint_6_trans">
    <type>transmission_interface/SimpleTransmission</type>
    <joint name="m1n6s200_joint_6">
      <hardwareInterface>EffortJointInterface</hardwareInterface>
    </joint>
    <actuator name="m1n6s200_joint_6_actuator">
      <hardwareInterface>EffortJointInterface</hardwareInterface>
      <mechanicalReduction>160</mechanicalReduction>
    </actuator>
  </transmission>
  <link name="m1n6s200_end_effector">
    <visual>
      <geometry>
        <box size="0 0 0"/>
      </geometry>
    </visual>
    <collision>
      <geometry>
        <box size="0 0 0"/>
      </geometry>
    </collision>

     <inertial>
      <mass value="0.001"/>
      <origin rpy="0 0 0" xyz="0 0 0"/>
      <inertia ixx="0.0001" ixy="0.0" ixz="0.0" iyy="0.0001" iyz="0.0" izz="0.0001"/>
    </inertial>

  </link>



  <joint name="m1n6s200_joint_end_effector" type="fixed">
    <parent link="m1n6s200_link_6"/>
    <child link="m1n6s200_end_effector"/>
    <axis xyz="0 0 0"/>
    <limit effort="2000" lower="0" upper="0" velocity="1"/>
    <origin rpy="3.14159265359 0 1.57079632679" xyz="0 0 -0.1600"/>
  </joint>


  
  <link name="m1n6s200_link_finger_1">
    <visual>
      <geometry>
        <mesh filename="meshes/kinova/finger_proximal.dae"/>
      </geometry>
      <material name="carbon_fiber">
        <color rgba="0.792156862745098 0.819607843137255 0.933333333333333 1"/>
      </material>
    </visual>
    <collision>
      <geometry>
        <mesh filename="meshes/kinova/finger_proximal.dae"/>
      </geometry>
    </collision>
    <inertial>
      <mass value="0.01"/>
      <origin xyz="0.022 0 0"/>
      <inertia ixx="7.8999684e-07" ixy="0" ixz="0" iyy="7.8999684e-07" iyz="0" izz="8e-08"/>
    </inertial>
  </link>
  <joint name="m1n6s200_joint_finger_1" type="revolute">
    <parent link="m1n6s200_link_6"/>
    <child link="m1n6s200_link_finger_1"/>
    <axis xyz="0 0 1"/>
    <origin rpy="-1.570796327 .649262481663582 1.57079632679490" xyz="-0.0025 0.03095 -0.11482"/>
    <limit effort="2000" lower="0" upper="2" velocity="1"/>
  </joint>
  <transmission name="m1n6s200_joint_finger_1_trans">
    <type>transmission_interface/SimpleTransmission</type>
    <joint name="m1n6s200_joint_finger_1">
      <hardwareInterface>EffortJointInterface</hardwareInterface>
    </joint>
    <actuator name="m1n6s200_joint_finger_1_actuator">
      <hardwareInterface>EffortJointInterface</hardwareInterface>
      <mechanicalReduction>1</mechanicalReduction>
    </actuator>
  </transmission>
  <link name="m1n6s200_link_finger_tip_1">
    <visual>
      <geometry>
        <mesh filename="meshes/kinova/finger_distal.dae"/>
      </geometry>
      <material name="carbon_fiber">
        <color rgba="0.792156862745098 0.819607843137255 0.933333333333333 1"/>
      </material>
    </visual>
    <collision>
      <geometry>
        <mesh filename="meshes/kinova/finger_distal.dae"/>
      </geometry>
    </collision>
    <inertial>
      <mass value="0.01"/>
      <origin xyz="0.022 0 0"/>
      <inertia ixx="7.8999684e-07" ixy="0" ixz="0" iyy="7.8999684e-07" iyz="0" izz="8e-08"/>
    </inertial>
  </link>
  <joint name="m1n6s200_joint_finger_tip_1" type="fixed">
    <parent link="m1n6s200_link_finger_1"/>
    <child link="m1n6s200_link_finger_tip_1"/>
    <axis xyz="0 0 1"/>
    <origin rpy="0 0 0" xyz="0.044 -0.003 0"/>
    <limit effort="2000" lower="0" upper="2" velocity="1"/>
  </joint>
  <link name="m1n6s200_link_finger_2">
    <visual>
      <geometry>
        <mesh filename="meshes/kinova/finger_proximal.dae"/>
      </geometry>
      <material name="carbon_fiber">
        <color rgba="0.792156862745098 0.819607843137255 0.933333333333333 1"/>
      </material>
    </visual>
    <collision>
      <geometry>
        <mesh filename="meshes/kinova/finger_proximal.dae"/>
      </geometry>
    </collision>
    <inertial>
      <mass value="0.01"/>
      <origin xyz="0.022 0 0"/>
      <inertia ixx="7.8999684e-07" ixy="0" ixz="0" iyy="7.8999684e-07" iyz="0" izz="8e-08"/>
    </inertial>
  </link>
  <joint name="m1n6s200_joint_finger_2" type="revolute">
    <parent link="m1n6s200_link_6"/>
    <child link="m1n6s200_link_finger_2"/>
    <axis xyz="0 0 1"/>
    <origin rpy="-1.570796327 .649262481663582 -1.57079632679490" xyz="-0.0025 -0.03095 -0.11482"/>
    <limit effort="2000" lower="0" upper="2" velocity="1"/>
  </joint>
  <transmission name="m1n6s200_joint_finger_2_trans">
    <type>transmission_interface/SimpleTransmission</type>
    <joint name="m1n6s200_joint_finger_2">
      <hardwareInterface>EffortJointInterface</hardwareInterface>
    </joint>
    <actuator name="m1n6s200_joint_finger_2_actuator">
      <hardwareInterface>EffortJointInterface</hardwareInterface>
      <mechanicalReduction>1</mechanicalReduction>
    </actuator>
  </transmission>
  <link name="m1n6s200_link_finger_tip_2">
    <visual>
      <geometry>
        <mesh filename="meshes/kinova/finger_distal.dae"/>
      </geometry>
      <material name="carbon_fiber">
        <color rgba="0.792156862745098 0.819607843137255 0.933333333333333 1"/>
      </material>
    </visual>
    <collision>
      <geometry>
        <mesh filename="meshes/kinova/finger_distal.dae"/>
      </geometry>
    </collision>
    <inertial>
      <mass value="0.01"/>
      <origin xyz="0.022 0 0"/>
      <inertia ixx="7.8999684e-07" ixy="0" ixz="0" iyy="7.8999684e-07" iyz="0" izz="8e-08"/>
    </inertial>
  </link>
  <joint name="m1n6s200_joint_finger_tip_2" type="fixed">
    <parent link="m1n6s200_link_finger_2"/>
    <child link="m1n6s200_link_finger_tip_2"/>
    <axis xyz="0 0 1"/>
    <origin rpy="0 0 0" xyz="0.044 -0.003 0"/>
    <limit effort="2000" lower="0" upper="2" velocity="1"/>
  </joint>

</robot>
